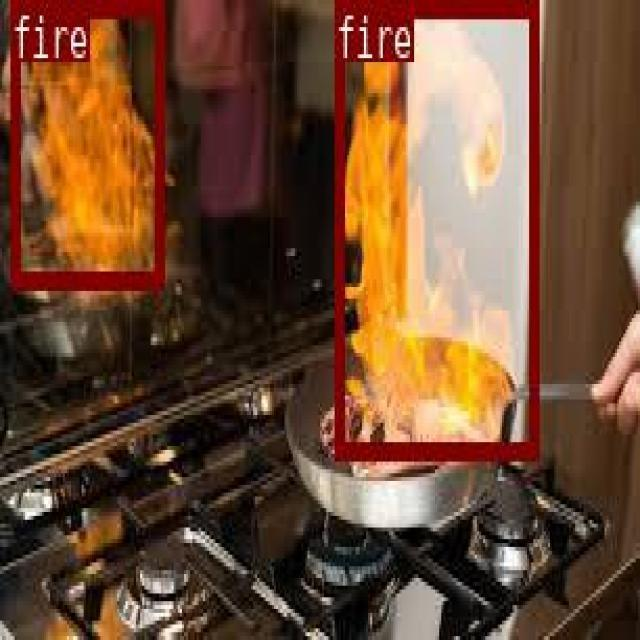fire: (333, 0, 536, 454), (9, 0, 164, 283)
